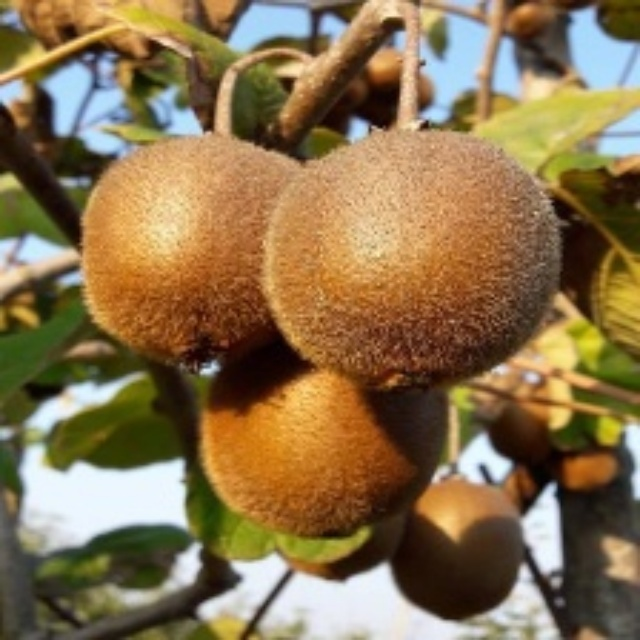kiwi: (273, 133, 552, 390), (67, 138, 306, 375), (193, 335, 457, 541), (388, 480, 536, 621)
